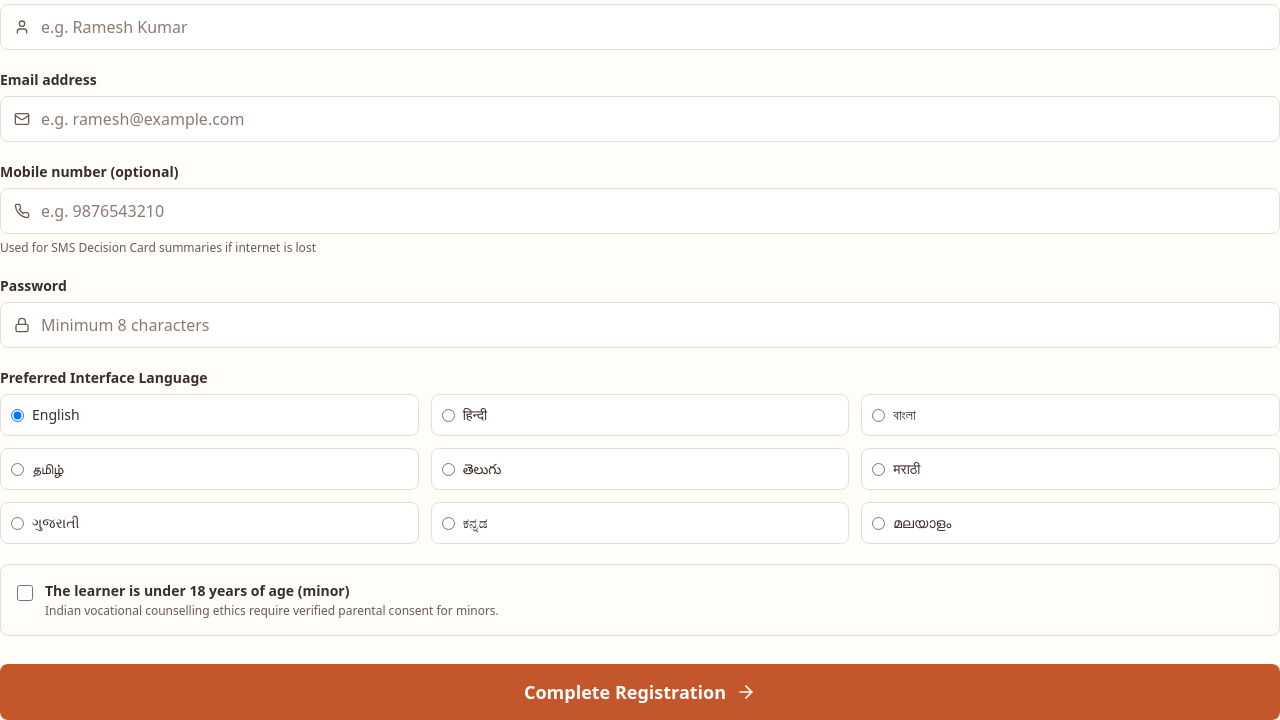
Test: Auth Feature Components › RegisterForm › displays mandatory parent consent when minor checkbox is enabled
(page scrolled)
Expected: the text "Parent / Guardian Consent Acknowledged" is not shown
Click the checkbox labelled "The learner is under 18 years of age (minor)": (25, 593) [17,585,33,601]
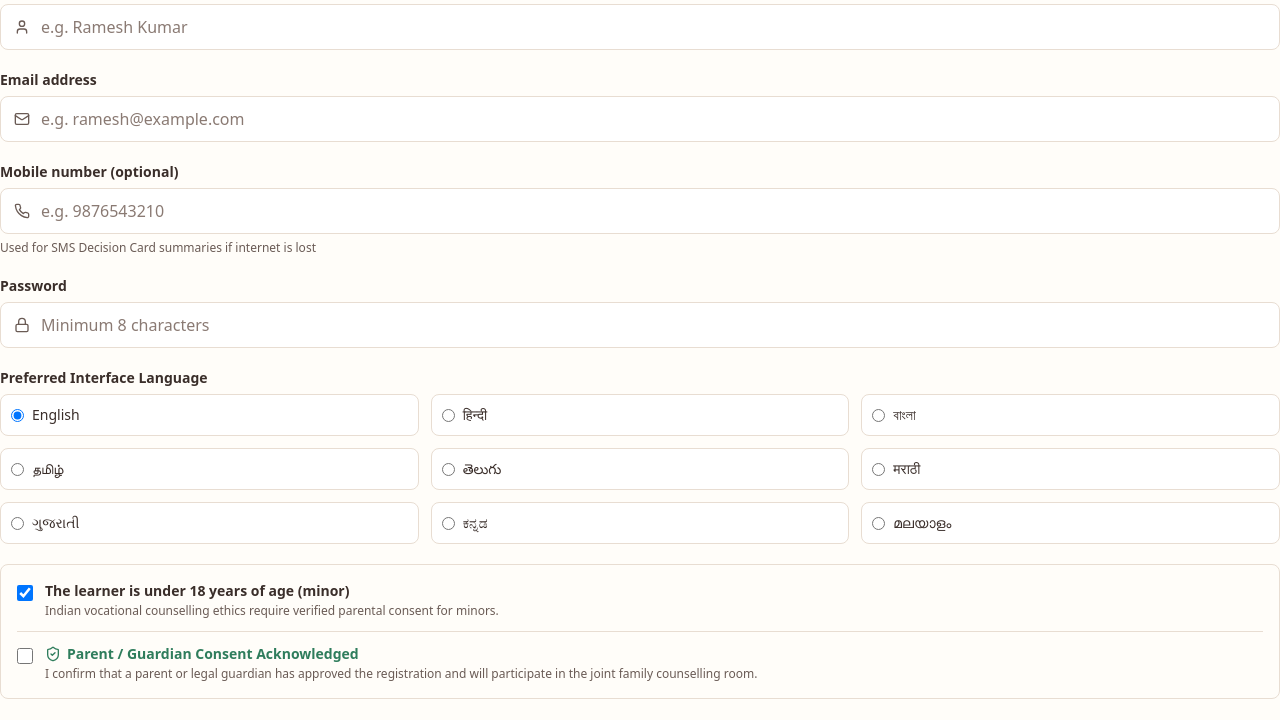
Now the text "Parent / Guardian Consent Acknowledged" is shown, box [45,644,359,663]
